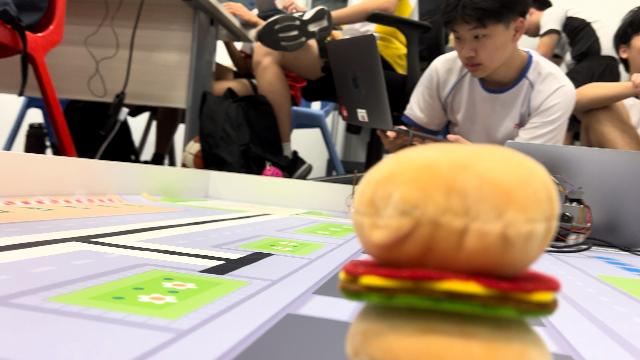burger: (341, 140, 557, 360)
